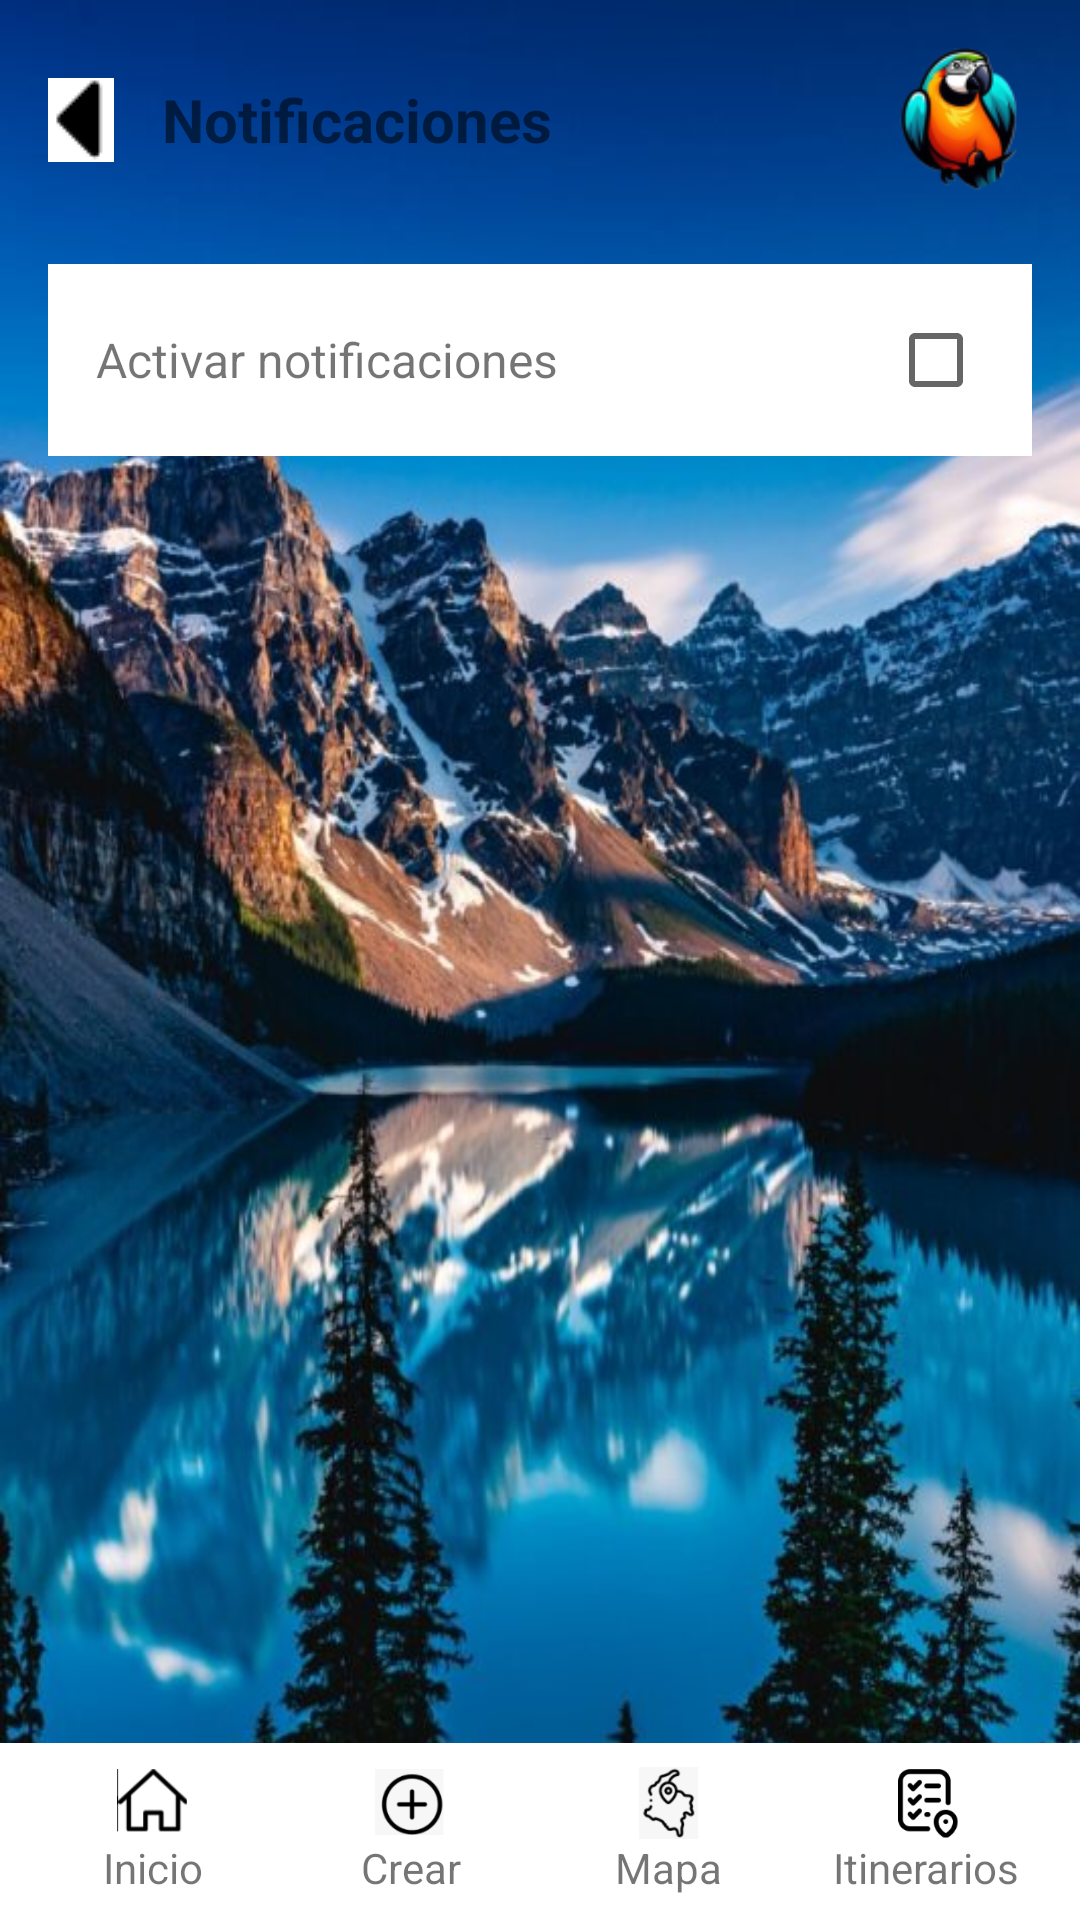

Icons on this 1080×1920 Android screen, each with its box as bbox(x1, y1, x2, y2):
Volver: bbox(48, 78, 114, 162)
